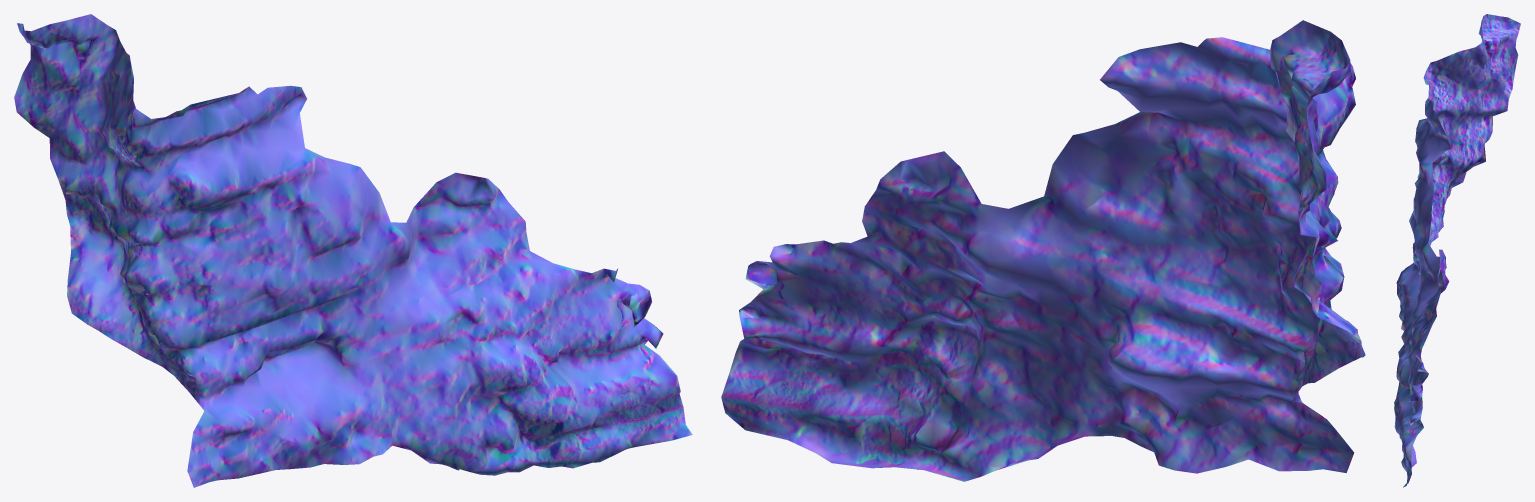
The model's file is RockFormation008 Moss Variant.fbx.
3 renders of one model, left to right at view 1: azimuth 30°, elevation 25°; view 2: azimuth 150°, elevation 25°; view 3: azimuth 270°, elevation 25°, orthographic. The views are drawn at different scales.
Parts seen in each view (by area): view 1: RF08_LOD0; view 2: RF08_LOD0; view 3: RF08_LOD0.
Part boxes in pixels (x1,y1,x2,y2): RF08_LOD0: [14, 14, 692, 487]; RF08_LOD0: [721, 20, 1365, 481]; RF08_LOD0: [1394, 14, 1520, 487].
Bounding box in the file's own units: 4411 × 3683 × 1357.
